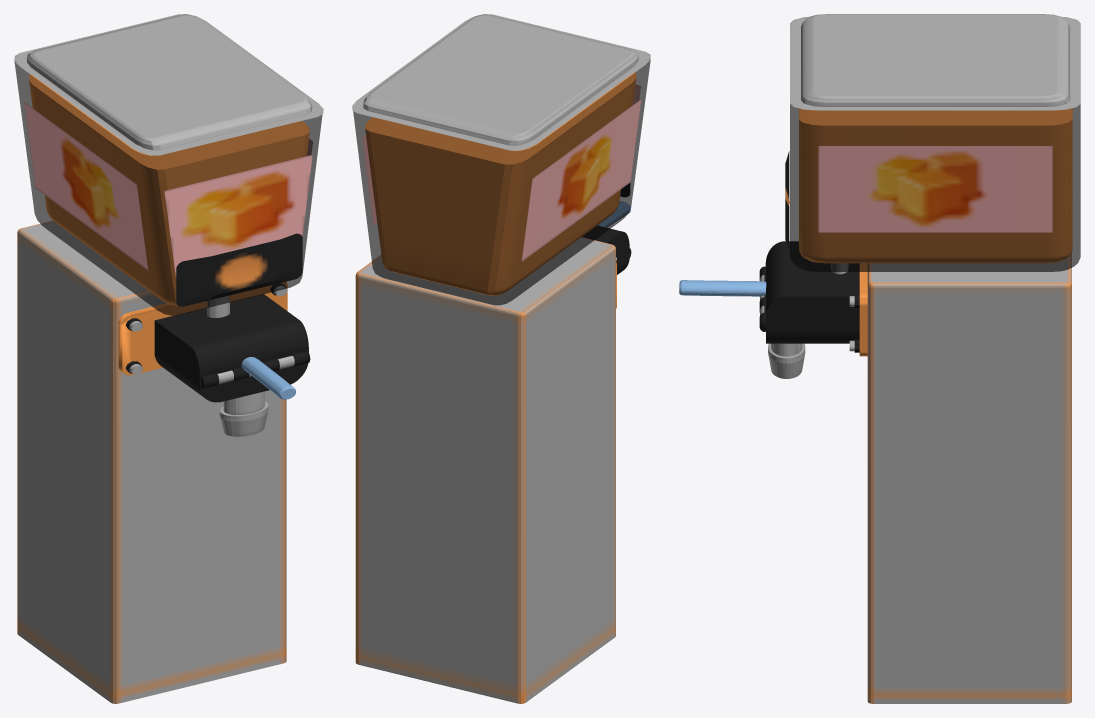
File: Caramel_new2.fbx
3 renders of one model, left to right at view 1: azimuth 30°, elevation 25°; view 2: azimuth 150°, elevation 25°; view 3: azimuth 270°, elevation 25°, orthographic. The views are drawn at different scales.
Parts seen in each view (by area): view 1: stage1_caramel1, stage1_caramel2, stage1_caramel4, stage1_strawberry4.003, stage1_caramel_handle.002; view 2: stage1_caramel1, stage1_caramel2, stage1_caramel4, stage1_strawberry4.003; view 3: stage1_caramel1, stage1_caramel2, stage1_caramel4, stage1_strawberry4.003, stage1_caramel_handle.002.
Boxes of the visible parts, x1,y1,x2,y2 form: stage1_caramel1: (15,14,323,703); stage1_caramel2: (14,59,322,315); stage1_caramel4: (29,74,309,305); stage1_strawberry4.003: (154,294,310,436); stage1_caramel_handle.002: (241,357,295,399); stage1_caramel1: (352,14,649,703); stage1_caramel2: (353,55,650,305); stage1_caramel4: (365,72,636,295); stage1_strawberry4.003: (582,225,631,274); stage1_caramel1: (785,14,1080,703); stage1_caramel2: (790,17,1080,271); stage1_caramel4: (799,108,1072,263); stage1_strawberry4.003: (759,241,859,378); stage1_caramel_handle.002: (679,280,766,296).
Bounding box in the file's own units: 78.69 × 235 × 141.
